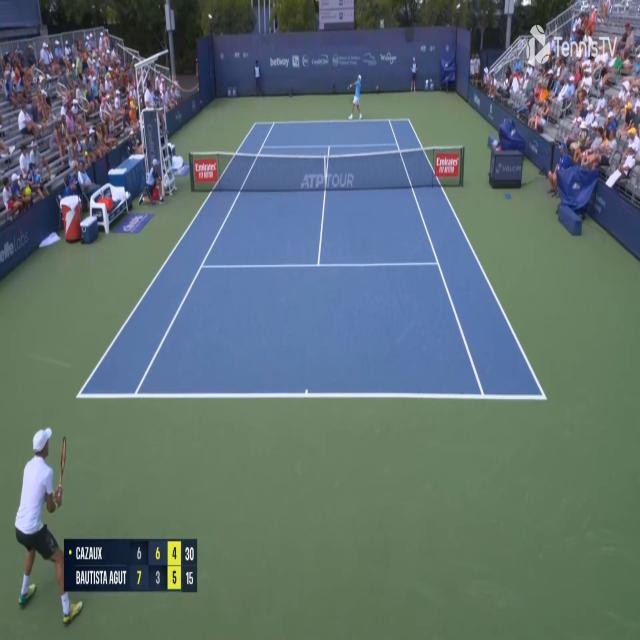tennis-player: (10, 419, 86, 632), (347, 70, 365, 122)
